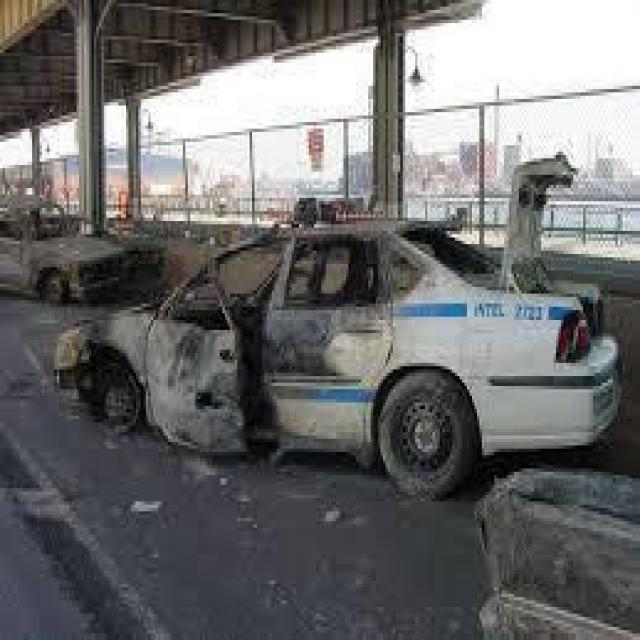damaged: (35, 211, 422, 465), (422, 215, 606, 346)
